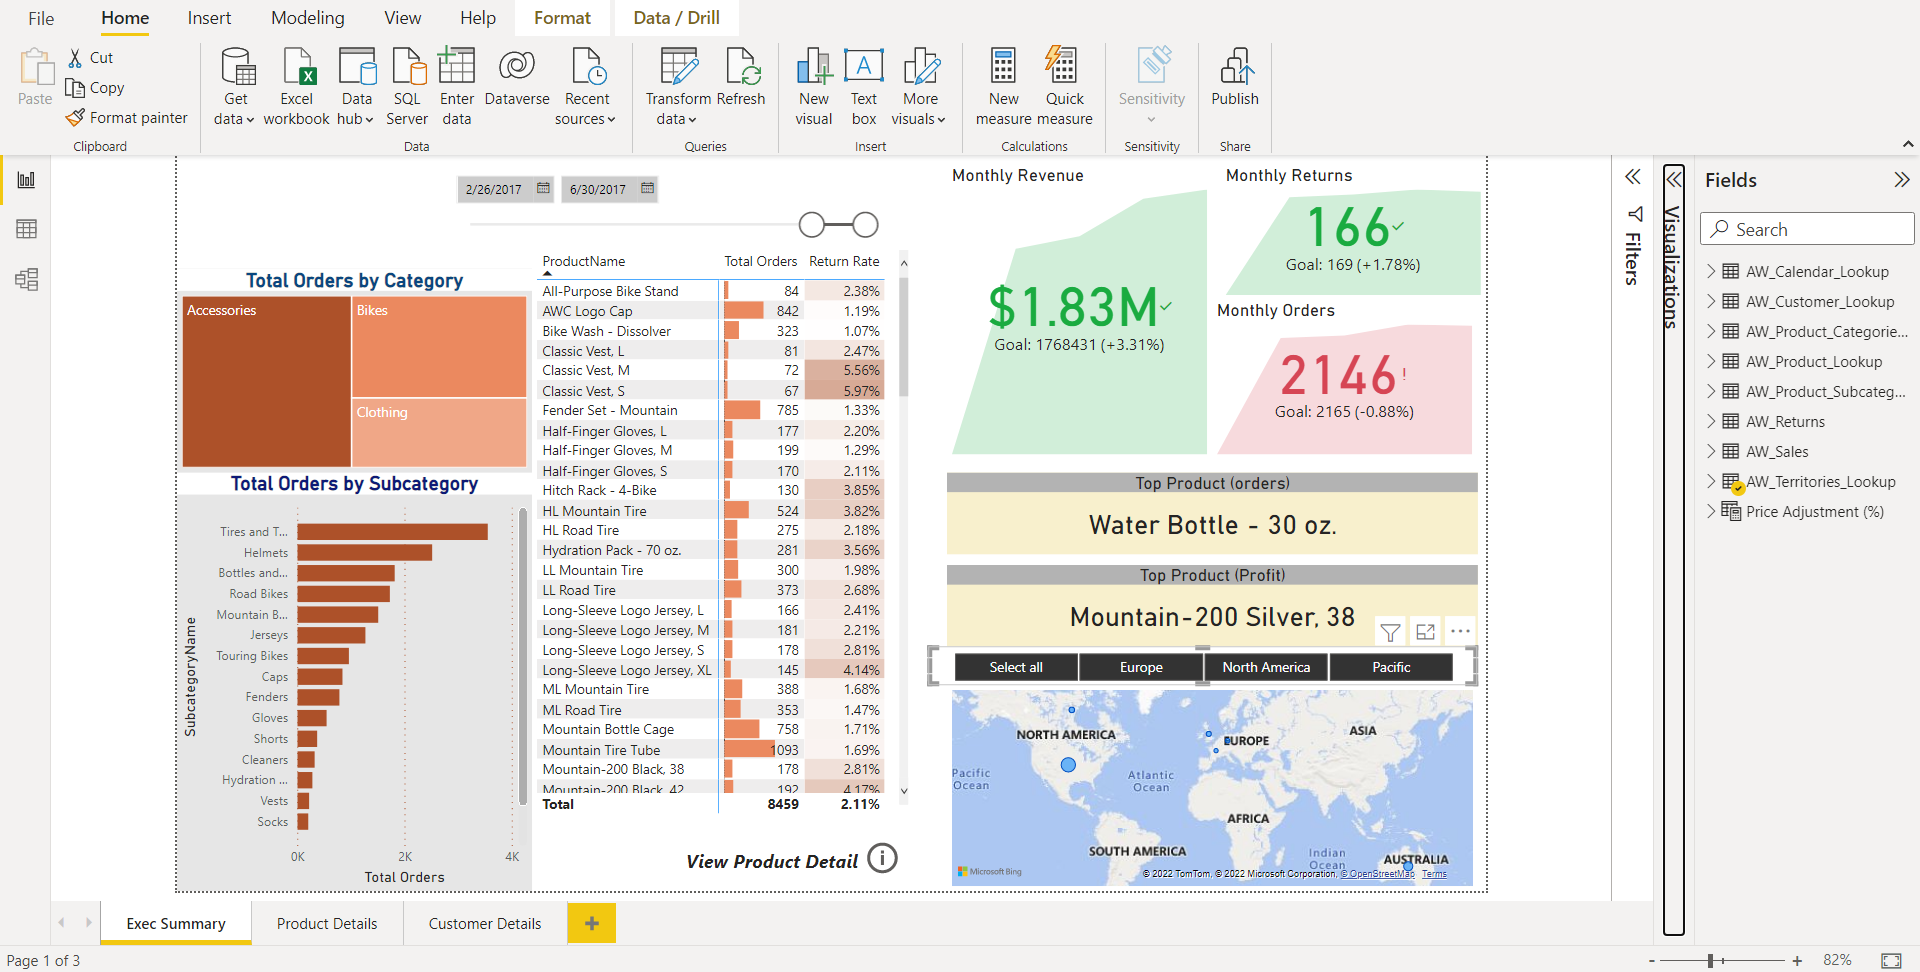

Layout of this report page (visuals, bound fields, positions):
{"tool":"powerbi","page":{"name":"Exec Summary","canvas":[1280,720],"ordinal":0},"visuals":[{"type":"barChart","title":"Total Orders by Subcategory","fields":{"Category":["AW_Product_Subcategories_Lookup.SubcategoryName"],"Y":["AW_Sales.Total Orders"]},"box":[0,310.4,347.5,409.3],"z":2000},{"type":"treemap","title":"Total Orders by Category","fields":{"Group":["AW_Product_Categories_Lookup.CategoryName","AW_Product_Subcategories_Lookup.SubcategoryName"],"Values":["AW_Sales.Total Orders"]},"box":[0,111.2,347.5,199.1],"z":3000},{"type":"pivotTable","fields":{"Rows":["AW_Product_Categories_Lookup.CategoryName","AW_Product_Subcategories_Lookup.SubcategoryName","AW_Product_Lookup.ProductName"],"Values":["AW_Sales.Total Orders","AW_Returns.Return Rate"]},"box":[347.2,88,372.8,561.1],"z":4000},{"type":"slicer","fields":{"Values":["AW_Calendar_Lookup.Date"]},"box":[260.4,9.8,434,78.2],"z":5000},{"type":"kpi","title":"Monthly Orders","fields":{"TrendLine":["AW_Calendar_Lookup.Start of Month"],"Indicator":["AW_Sales.Total Orders"],"Goal":["AW_Sales.Prev Month Orders"]},"box":[1012.2,141.8,259.2,156.5],"z":6000},{"type":"kpi","title":"Monthly Returns","fields":{"TrendLine":["AW_Calendar_Lookup.Start of Month"],"Goal":["AW_Returns.Prev Month Returns"],"Indicator":["AW_Returns.Total Returns"]},"box":[1020.7,9.8,259.2,132],"z":7000},{"type":"kpi","title":"Monthly Revenue","fields":{"TrendLine":["AW_Calendar_Lookup.Start of Month"],"Goal":["AW_Sales.Prev Month Rev"],"Indicator":["AW_Sales.Total Revenue"]},"box":[753,9.8,259.2,288.5],"z":8000},{"type":"card","title":"Top Product (orders)","fields":{"Values":["Min(AW_Product_Lookup.ProductName)"]},"box":[752.6,310.4,519.1,79.7],"z":9000},{"type":"card","title":"Top Product (Profit)","fields":{"Values":["Min(AW_Product_Lookup.ProductName)"]},"box":[752.6,401,519.1,79.7],"z":10000},{"type":"map","fields":{"Category":["AW_Territories_Lookup.Country"],"Size":["AW_Sales.Total Orders"]},"box":[752.6,517.8,519.1,201.9],"z":11000},{"type":"slicer","fields":{"Values":["AW_Territories_Lookup.Continent"]},"box":[734.8,480.7,537,37.1],"z":12000},{"type":"textbox","box":[492.6,673.5,259.2,34.2],"z":13000},{"type":"actionButton","box":[669.9,667.4,50.1,40.3],"z":14000}]}

Visuals, with their boxes on the page's 1280x720 design canvas (x1, y1, x2, y2). These are canvas units, not pixel positions in the 1920x972 screenshot, which may show the page scaled, cropped or inside an application window:
"Total Orders by Subcategory" barChart: 0/310/348/720
"Total Orders by Category" treemap: 0/111/348/310
pivotTable - AW_Product_Categories_Lookup.CategoryName x AW_Product_Subcategories_Lookup.SubcategoryName: 347/88/720/649
slicer - AW_Calendar_Lookup.Date: 260/10/694/88
"Monthly Orders" kpi: 1012/142/1271/298
"Monthly Returns" kpi: 1021/10/1280/142
"Monthly Revenue" kpi: 753/10/1012/298
"Top Product (orders)" card: 753/310/1272/390
"Top Product (Profit)" card: 753/401/1272/481
map - AW_Territories_Lookup.Country x AW_Sales.Total Orders: 753/518/1272/720
slicer - AW_Territories_Lookup.Continent: 735/481/1272/518
textbox: 493/674/752/708
actionButton: 670/667/720/708
